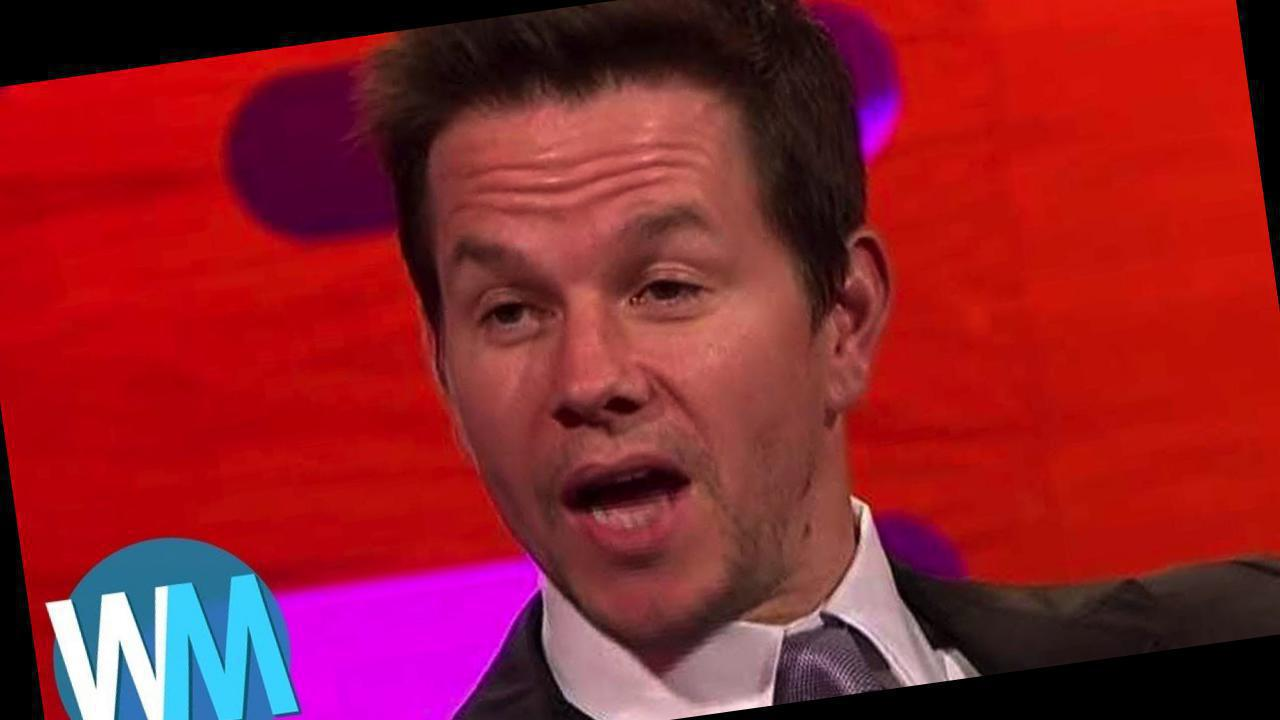Drunk: (427, 125, 805, 638)
